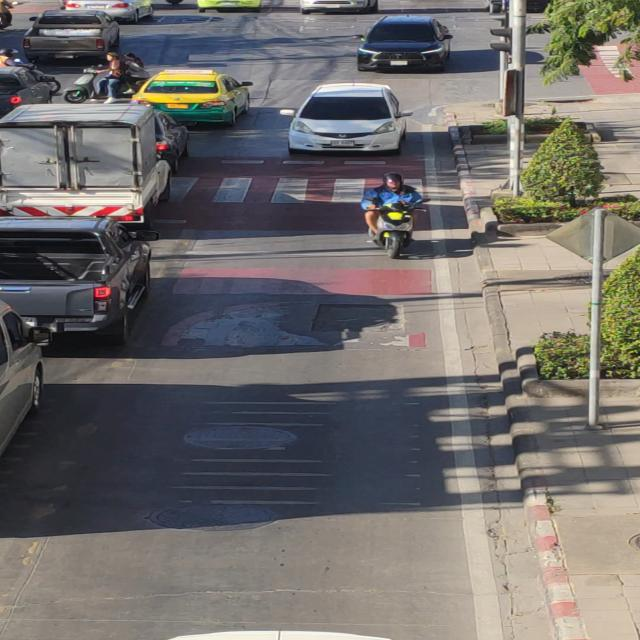car: (276, 72, 419, 166)
